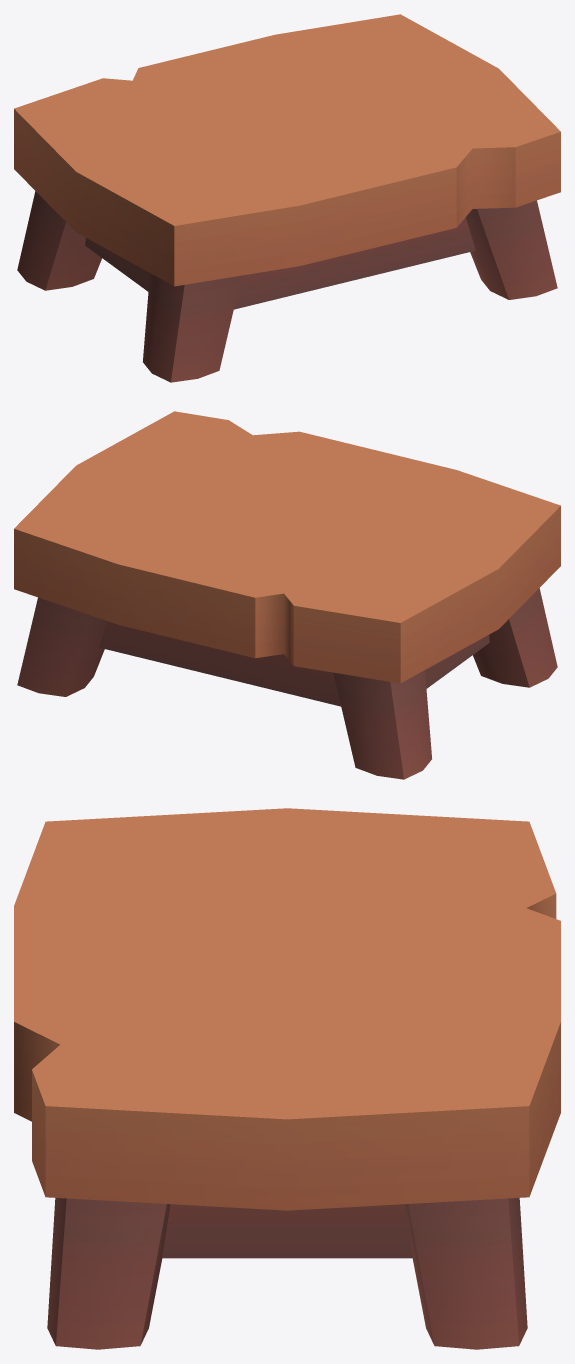
File: table.glb
3 renders of one model, top to bottom at view 1: azimuth 30°, elevation 25°; view 2: azimuth 150°, elevation 25°; view 3: azimuth 270°, elevation 25°, orthographic. The views are drawn at different scales.
Visible parts, largest first — view 1: table; view 2: table; view 3: table.
Boxes of the visible parts, x1,y1,x2,y2 form: table: (14,14,560,382); table: (14,411,560,779); table: (14,808,560,1349).
Bounding box in the file's own units: 0.875 × 0.3146 × 0.65.
Materials: 1 (1 with a texture image).
